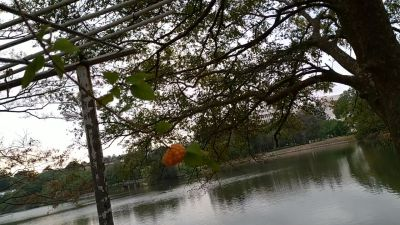eggs: (161, 144, 188, 168)
